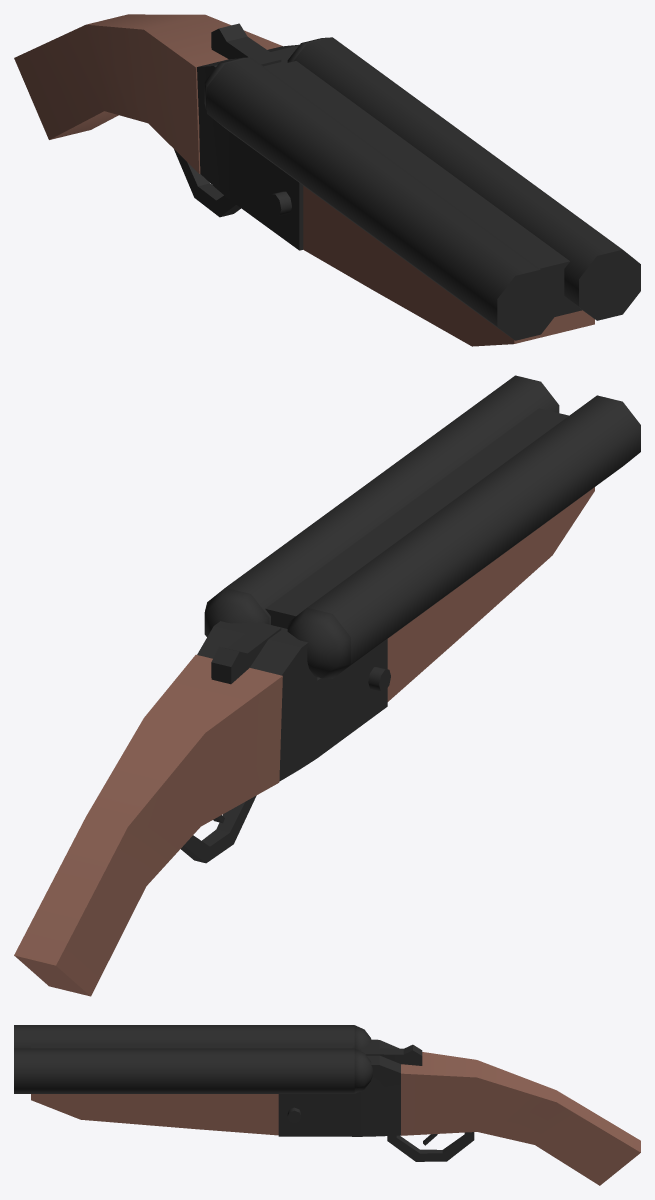
3 views of the same model, one above another, from view 1: azimuth 30°, elevation 25°; view 2: azimuth 150°, elevation 25°; view 3: azimuth 270°, elevation 25° (orthographic). The views are drawn at different scales.
Visible parts, largest first — view 1: Sawed-Off Shotgun Body.001, Sawed-Off Shotgun Body; view 2: Sawed-Off Shotgun Body.001, Sawed-Off Shotgun Body; view 3: Sawed-Off Shotgun Body.001, Sawed-Off Shotgun Body.
Boxes of the visible parts, x1,y1,x2,y2 form: Sawed-Off Shotgun Body.001: (207,37,640,346); Sawed-Off Shotgun Body: (14,14,331,250); Sawed-Off Shotgun Body.001: (225,375,640,701); Sawed-Off Shotgun Body: (14,588,387,996); Sawed-Off Shotgun Body.001: (14,1025,354,1135); Sawed-Off Shotgun Body: (278,1025,640,1185).
Bounding box in the file's own units: 0.1499 × 0.2367 × 0.9642.
